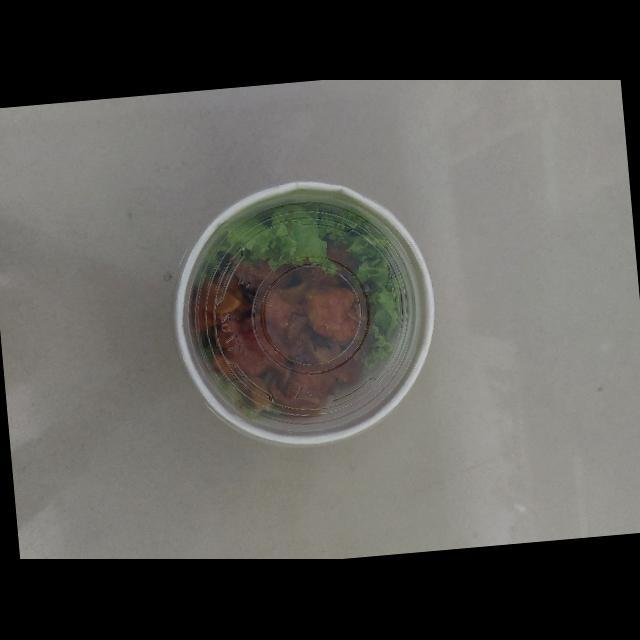rice-bowl: (142, 160, 455, 462)
